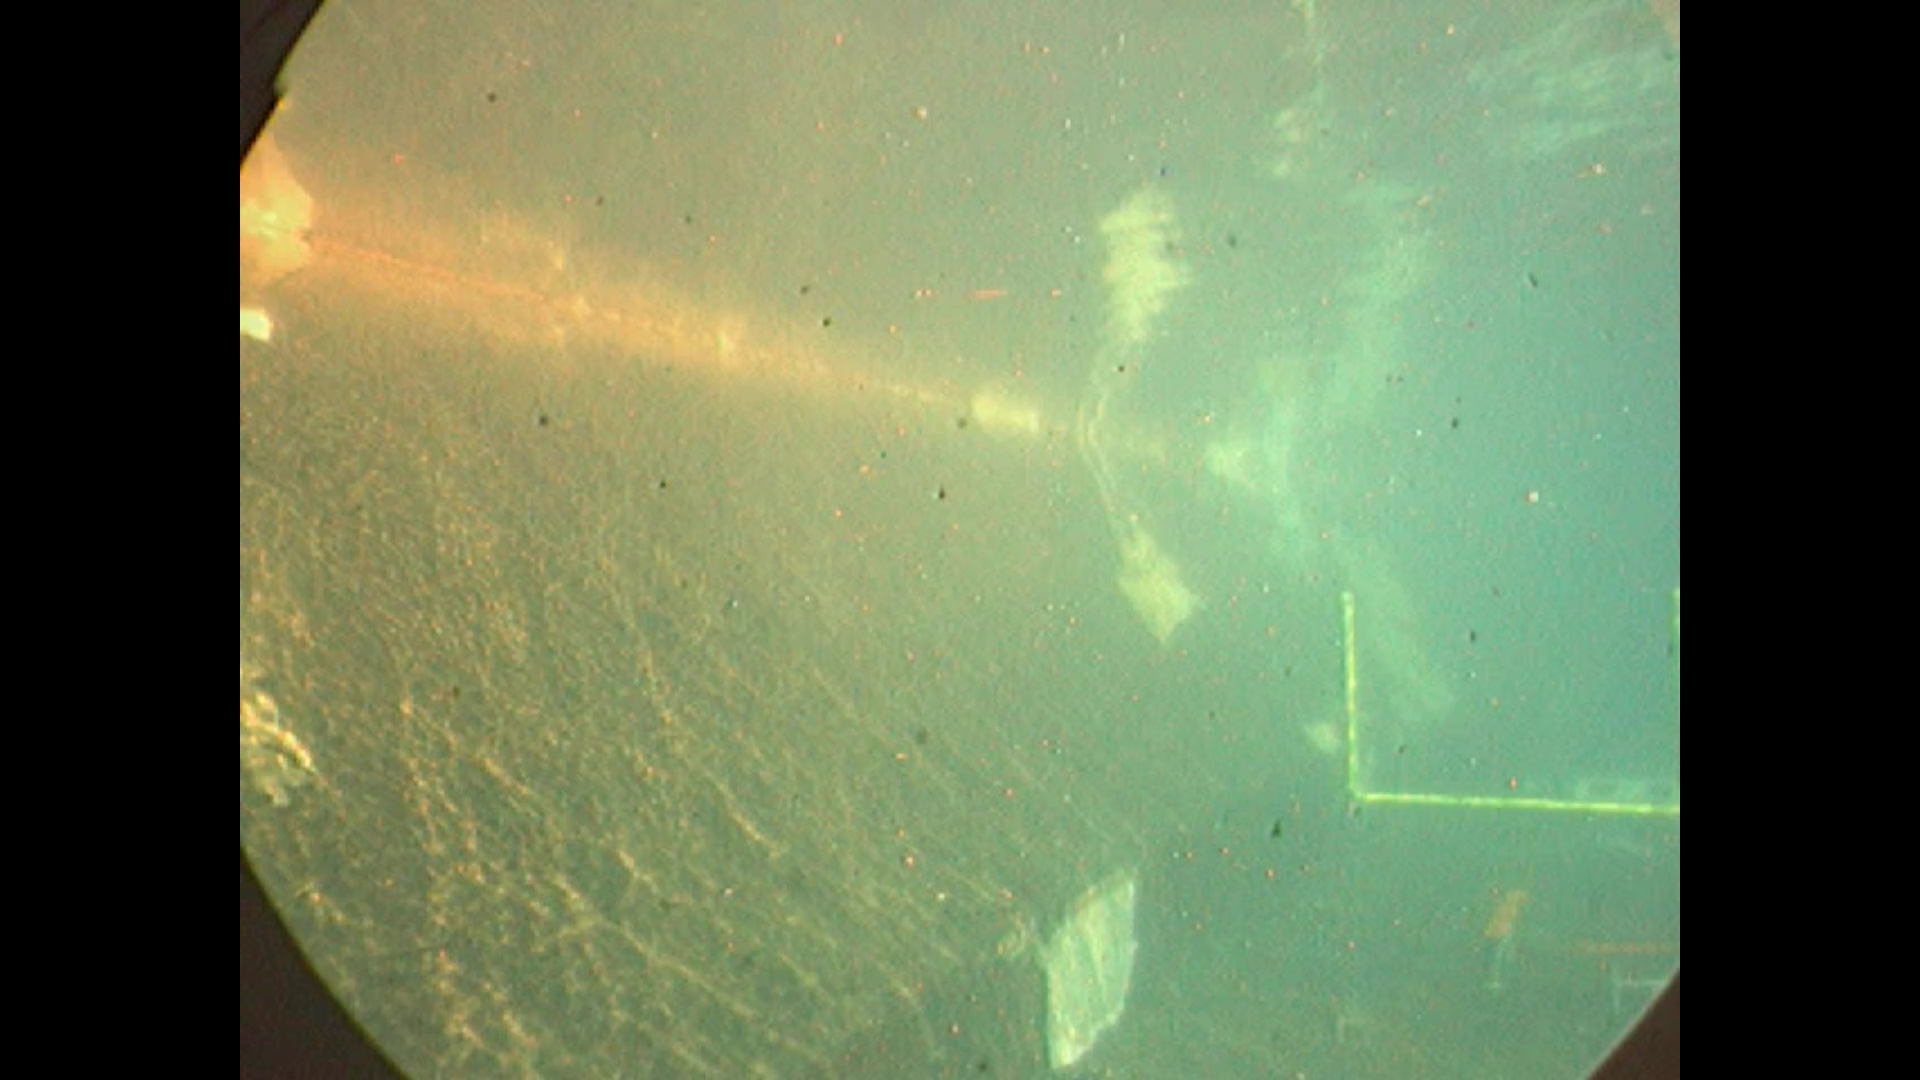gate: (1335, 587, 1679, 822)
